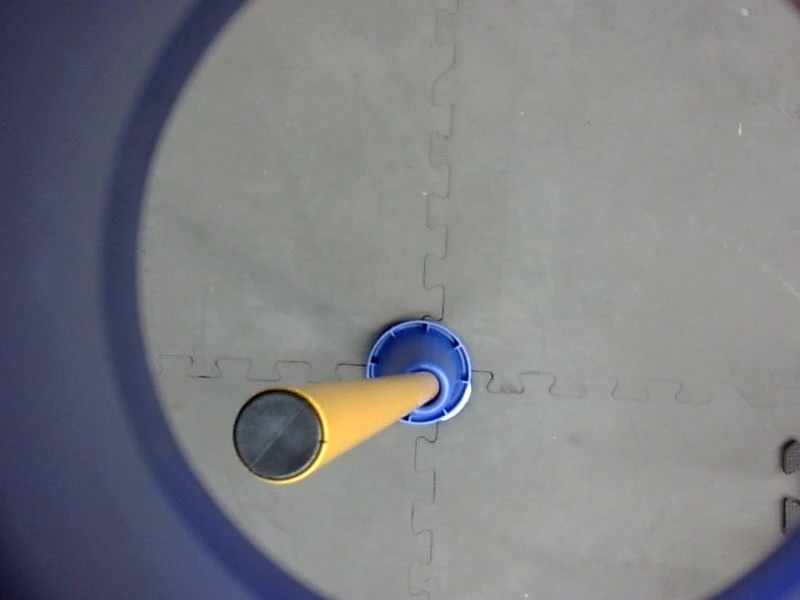tip: (224, 380, 336, 492)
